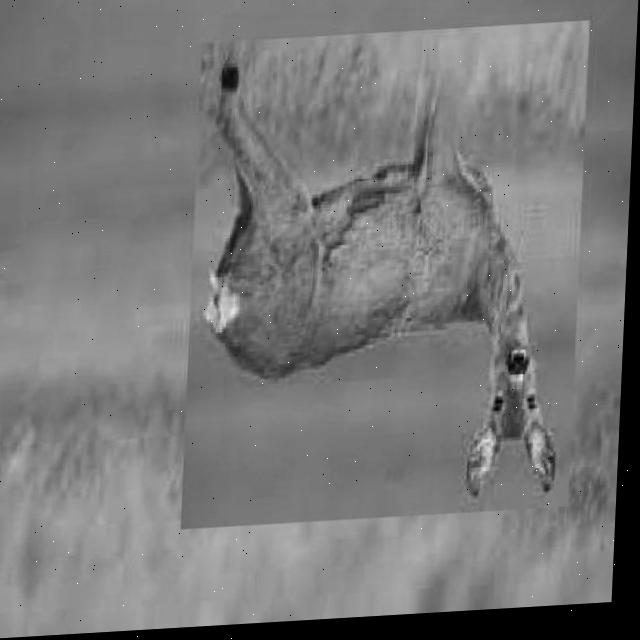Deer: (181, 20, 592, 531)
